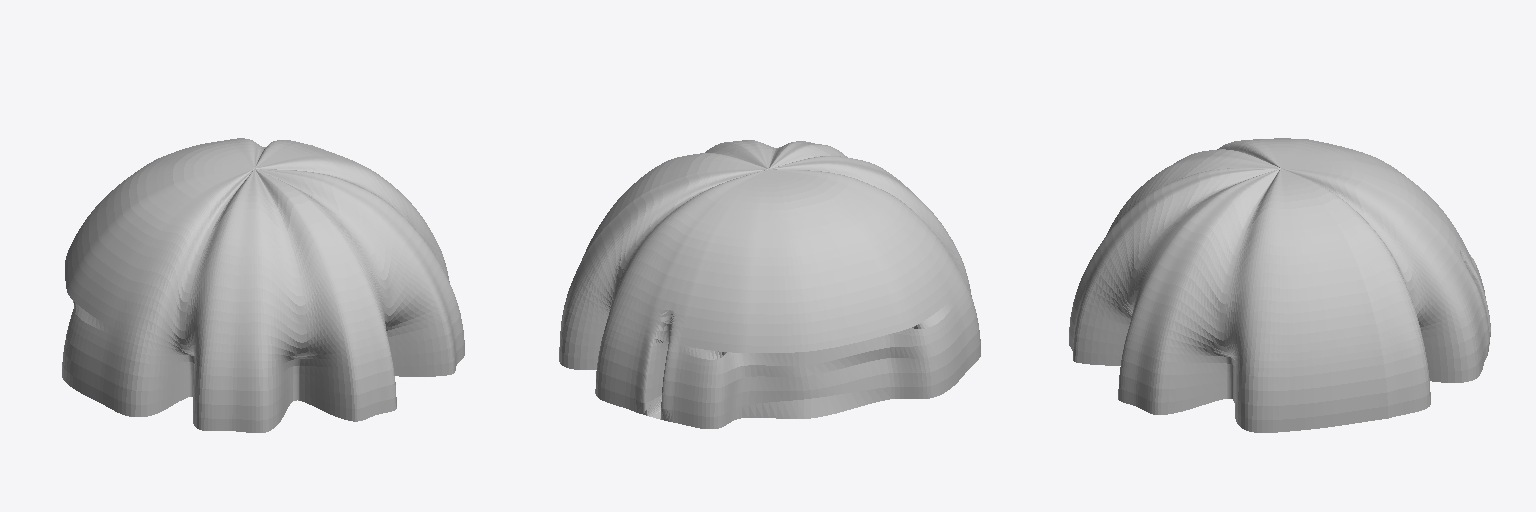
Rendered from newwallscentre.obj.
3 renders of one model, left to right at view 1: azimuth 30°, elevation 25°; view 2: azimuth 150°, elevation 25°; view 3: azimuth 270°, elevation 25°, orthographic.
Visible parts, largest first — view 1: Loft; view 2: Loft; view 3: Loft.
Boxes of the visible parts, x1,y1,x2,y2 form: Loft: [62, 138, 464, 432]; Loft: [559, 140, 980, 428]; Loft: [1069, 138, 1490, 432].
Bounding box in the file's own units: 1887 × 861 × 1882.